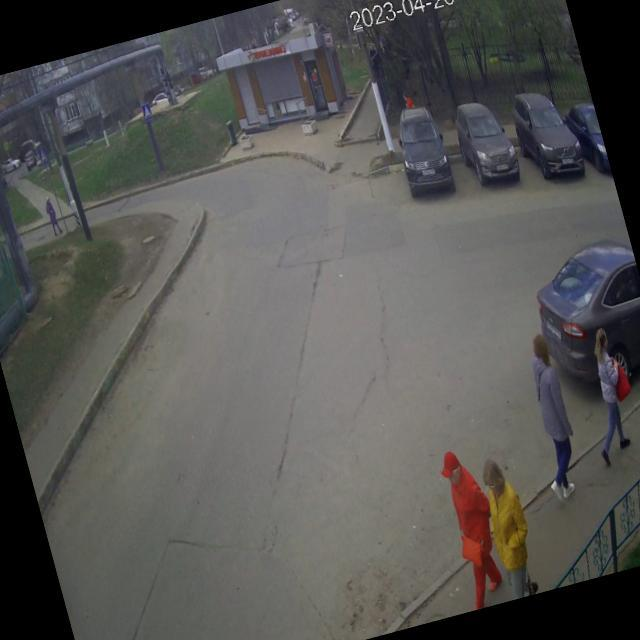person: (510, 330, 591, 509), (431, 444, 515, 610), (473, 453, 545, 600), (569, 324, 640, 468)
